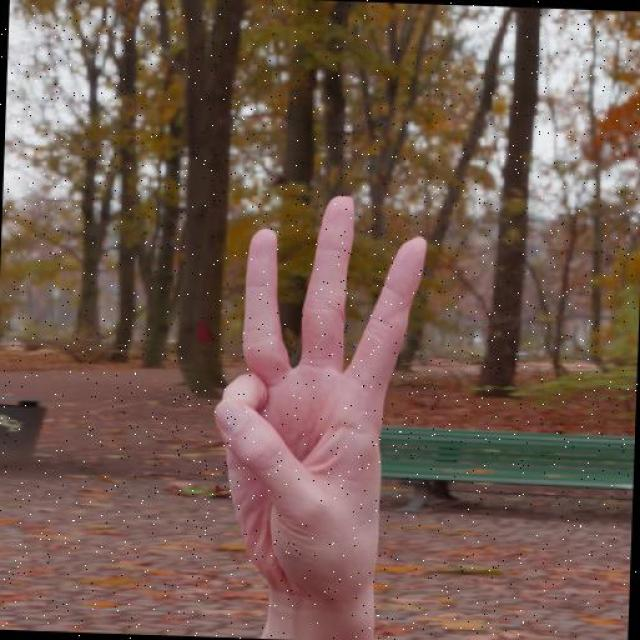W: (213, 187, 442, 627)
